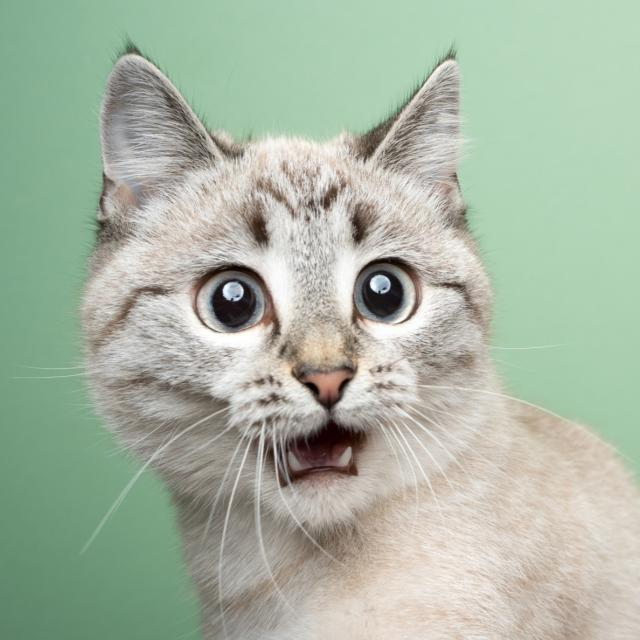Surprised: (136, 202, 456, 524)
